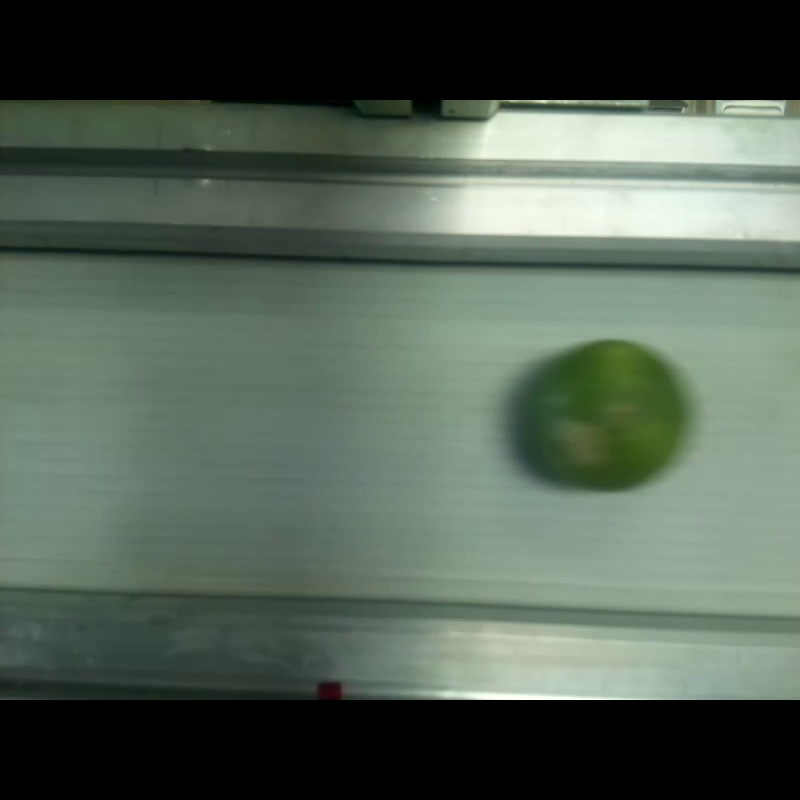lime: (523, 341, 682, 489)
